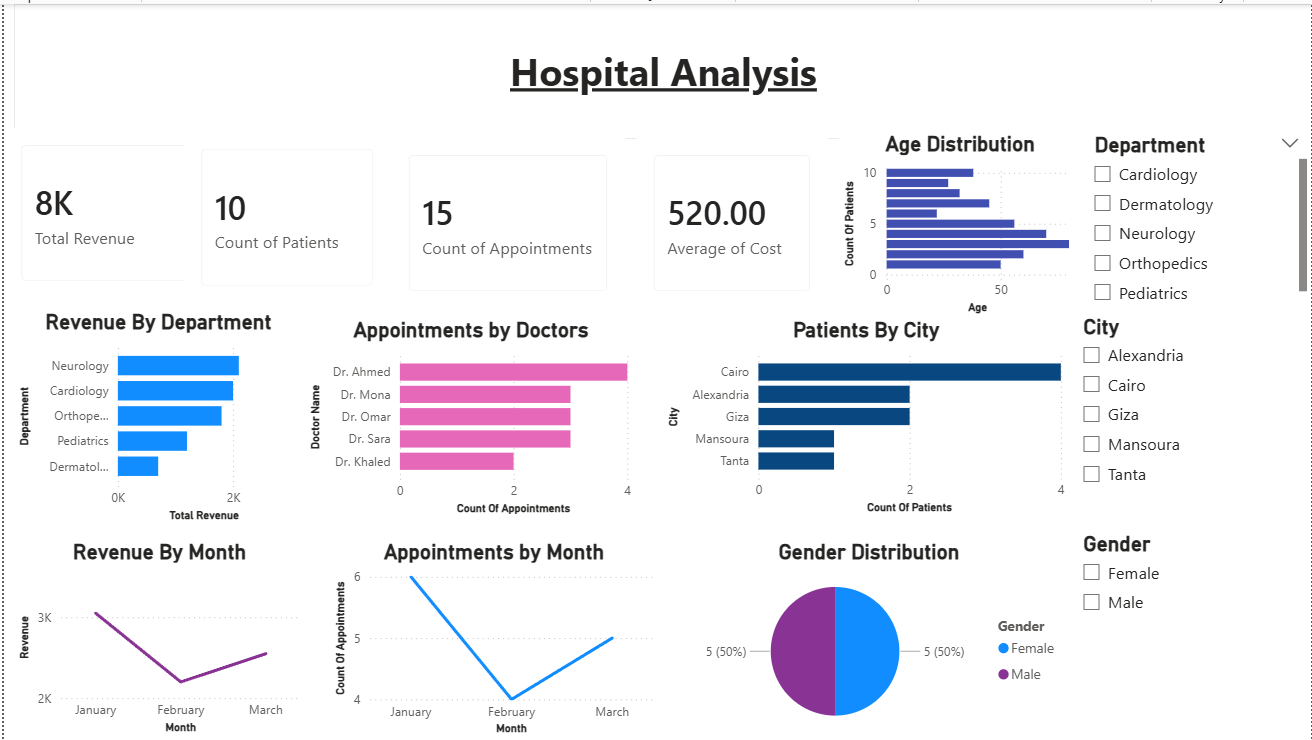

What the dashboard file says about the page in this screenshot:
{"tool":"powerbi","page":{"name":"Hospital  Performance Dashboard","canvas":[1280,720],"ordinal":0},"visuals":[{"type":"textbox","box":[9.6,0,1270.7,131.7],"z":0},{"type":"cardVisual","fields":{"Data":["Sum(Hospital_Analysis.Cost)"]},"box":[0,121.1,206.7,167.5],"z":1},{"type":"cardVisual","fields":{"Data":["Count(Hospital_Analysis.Patient_ID)"]},"box":[176.1,124.7,203,168.8],"z":2},{"type":"cardVisual","fields":{"Data":["Count(Hospital_Analysis.Appointment_ID)"]},"box":[379.1,130.8,228.7,167.5],"z":3},{"type":"cardVisual","fields":{"Data":["Avg(Hospital_Analysis.Cost)"]},"box":[618.6,131.4,187.1,167.1],"z":4},{"type":"clusteredBarChart","title":"Revenue By Department","fields":{"Category":["Hospital_Analysis.Department"],"Y":["Sum(Hospital_Analysis.Cost)"]},"box":[10,298.6,282.9,212.9],"z":5},{"type":"clusteredBarChart","title":"Appointments by Doctors","fields":{"Category":["Hospital_Analysis.Doctor_Name"],"Y":["CountNonNull(Hospital_Analysis.Appointment_ID)"]},"box":[294.3,307.1,324.3,197.1],"z":6},{"type":"clusteredBarChart","title":"Patients By City","fields":{"Category":["Hospital_Analysis.City"],"Y":["Count(Hospital_Analysis.Patient_ID)"]},"box":[644.4,306.9,398.6,196.9],"z":7},{"type":"lineChart","title":"Appointments by Month","fields":{"Y":["CountNonNull(Hospital_Analysis.Appointment_ID)"],"Category":["Hospital_Analysis.Appointment_Date.Variation.Date Hierarchy.Month"]},"box":[319.2,523.4,320.4,196.9],"z":9},{"type":"lineChart","title":"Revenue By Month","fields":{"Category":["Hospital_Analysis.Appointment_Date.Variation.Date Hierarchy.Month"],"Y":["Sum(Hospital_Analysis.Cost)"]},"box":[9.8,523.4,284.9,195.7],"z":10},{"type":"pieChart","title":"Gender Distribution","fields":{"Category":["Hospital_Analysis.Gender"],"Y":["Count(Hospital_Analysis.Patient_ID)"]},"box":[649.3,523.4,393.8,196.9],"z":11},{"type":"clusteredBarChart","title":"Age Distribution","fields":{"Category":["Hospital_Analysis.Patient_ID"],"Y":["Sum(Hospital_Analysis.Age)"]},"box":[816.9,124.7,237.2,183.4],"z":12},{"type":"slicer","fields":{"Values":["Hospital_Analysis.Department"]},"box":[1054.3,121.4,225.7,177.1],"z":13},{"type":"slicer","fields":{"Values":["Hospital_Analysis.City"]},"box":[1043.1,298.4,226.2,196.9],"z":14},{"type":"slicer","fields":{"Values":["Hospital_Analysis.Gender"]},"box":[1043.1,511.1,226.2,196.9],"z":15}]}

Visuals, with their boxes in screenshot pixels (x1, y1, x2, y2), scaled from the page's 1280x720 canvas onto the 1312x740 screenshot:
textbox: [10, 0, 1311, 135]
cardVisual - Sum(Hospital_Analysis.Cost): [0, 124, 212, 297]
cardVisual - Count(Hospital_Analysis.Patient_ID): [181, 128, 389, 302]
cardVisual - Count(Hospital_Analysis.Appointment_ID): [389, 134, 623, 307]
cardVisual - Avg(Hospital_Analysis.Cost): [634, 135, 826, 307]
"Revenue By Department" clusteredBarChart: [10, 307, 300, 526]
"Appointments by Doctors" clusteredBarChart: [302, 316, 634, 518]
"Patients By City" clusteredBarChart: [661, 315, 1069, 518]
"Appointments by Month" lineChart: [327, 538, 656, 739]
"Revenue By Month" lineChart: [10, 538, 302, 739]
"Gender Distribution" pieChart: [666, 538, 1069, 739]
"Age Distribution" clusteredBarChart: [837, 128, 1080, 317]
slicer - Hospital_Analysis.Department: [1081, 125, 1311, 307]
slicer - Hospital_Analysis.City: [1069, 307, 1301, 509]
slicer - Hospital_Analysis.Gender: [1069, 525, 1301, 728]
